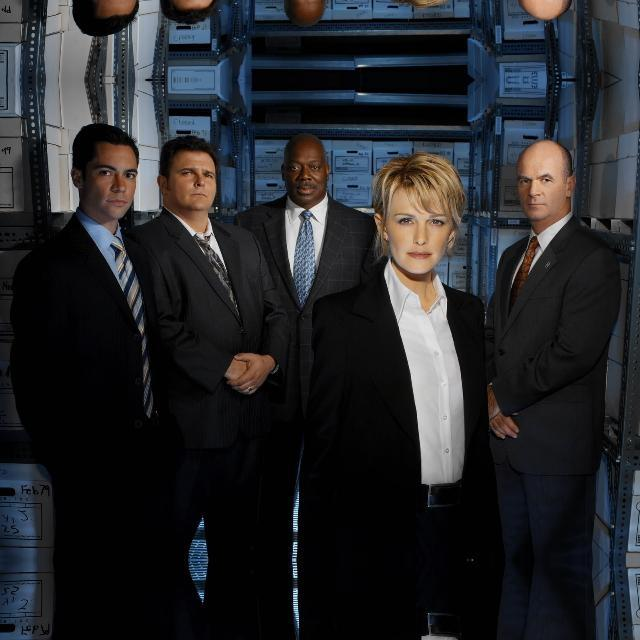person: (147, 140, 259, 364), (500, 142, 596, 390), (370, 157, 466, 383), (60, 124, 152, 268), (274, 132, 344, 292), (60, 0, 152, 36), (147, 0, 259, 19), (274, 0, 343, 28), (500, 0, 595, 18), (370, 0, 466, 3)
